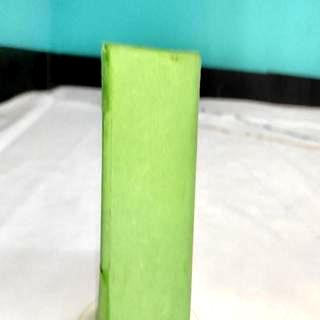greenbox: (98, 40, 202, 320)
